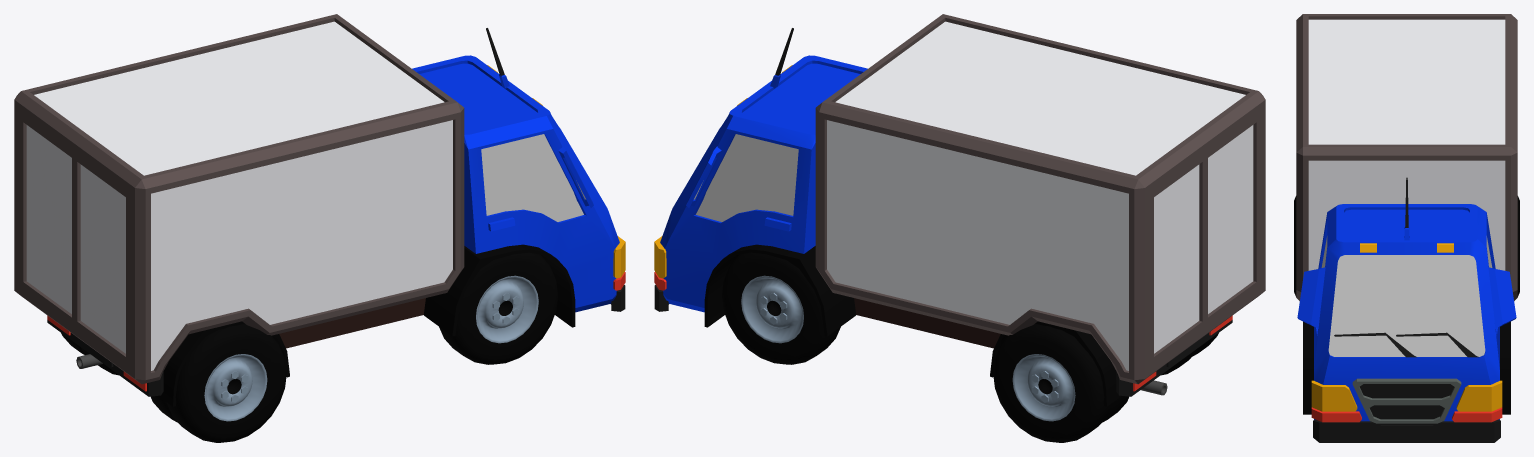
Rendered from car1.fbx.
3 views of the same model, side by side, from view 1: azimuth 30°, elevation 25°; view 2: azimuth 150°, elevation 25°; view 3: azimuth 270°, elevation 25° (orthographic). The views are drawn at different scales.
Parts seen in each view (by area): view 1: Transport1; view 2: Transport1; view 3: Transport1.
Boxes of the visible parts, x1,y1,x2,y2 form: Transport1: [14, 14, 625, 442]; Transport1: [654, 14, 1265, 442]; Transport1: [1294, 14, 1519, 442].
Size of the model in its own units: 310 by 172 by 140.
